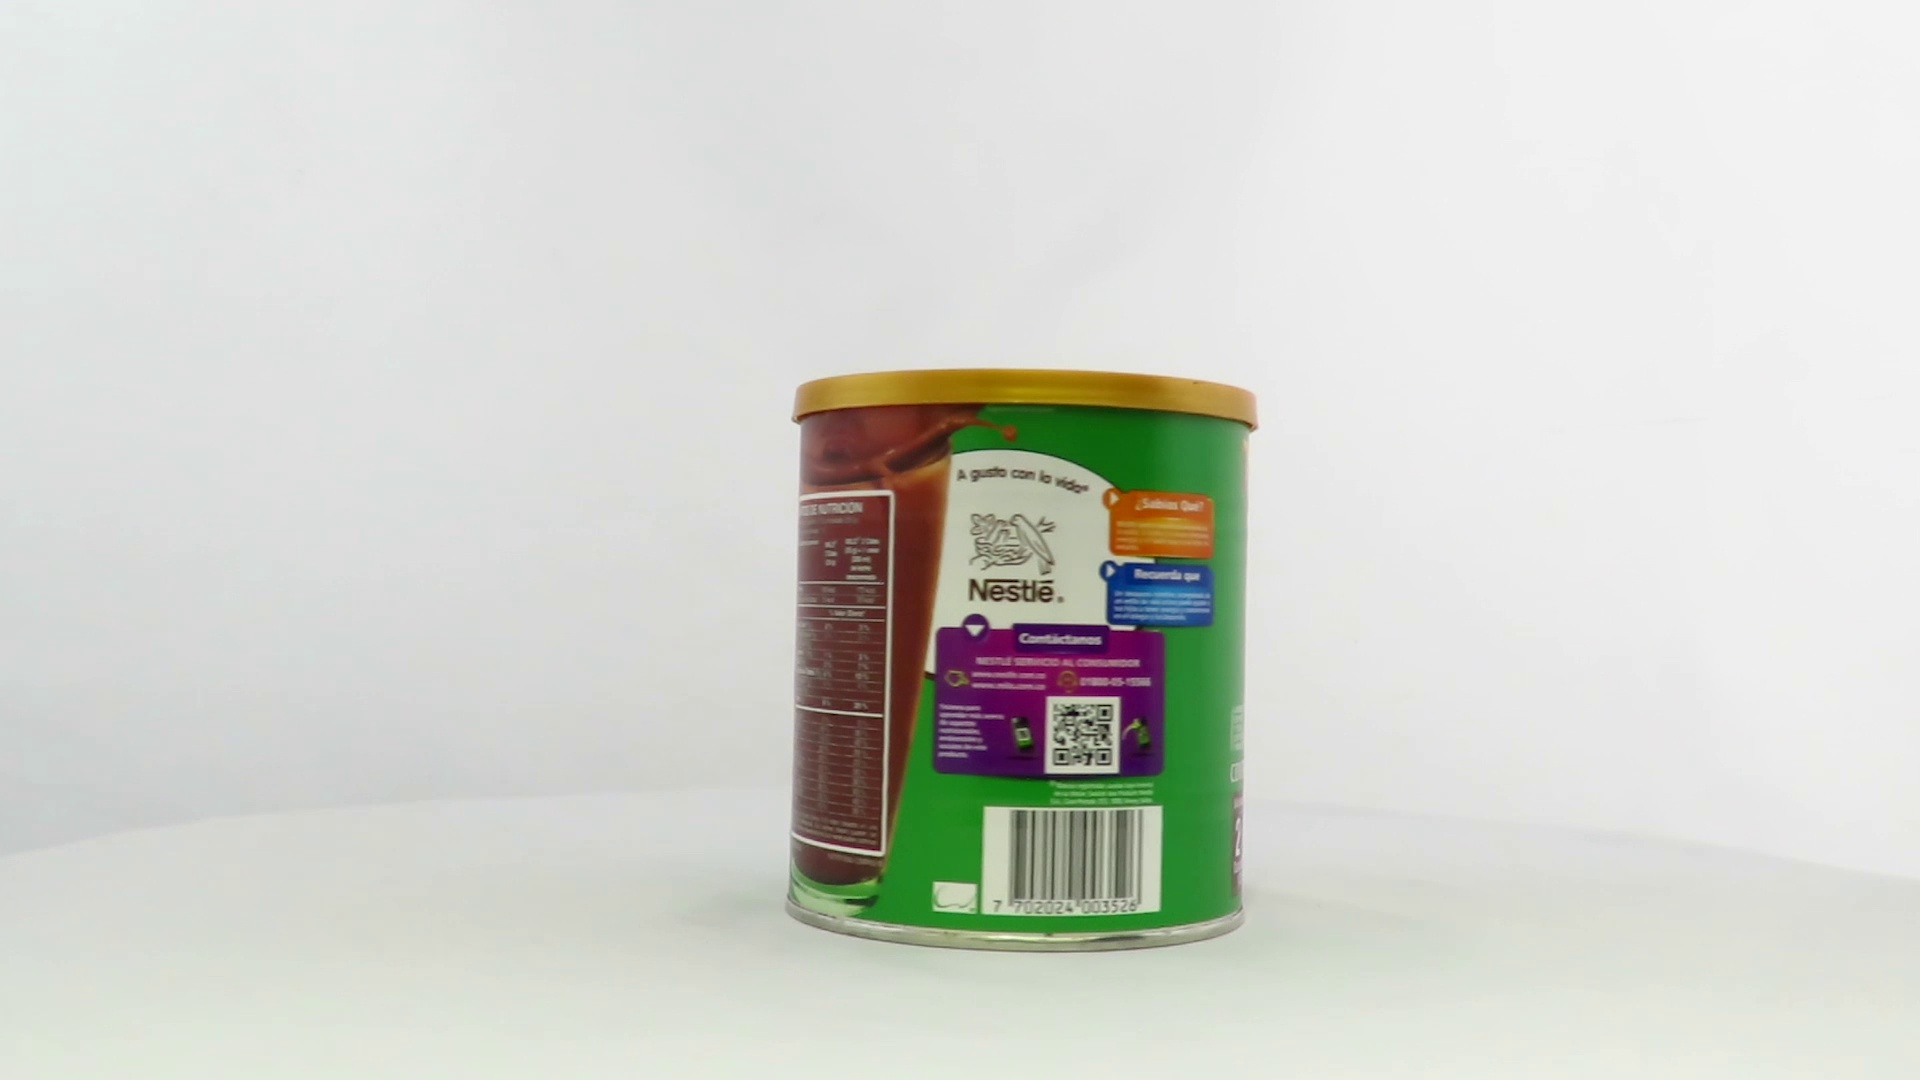COL0170203LAT40000: (779, 363, 1265, 959)
